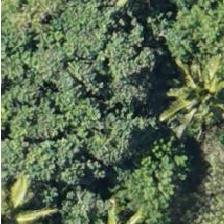coconut_tree: (165, 45, 223, 135)
